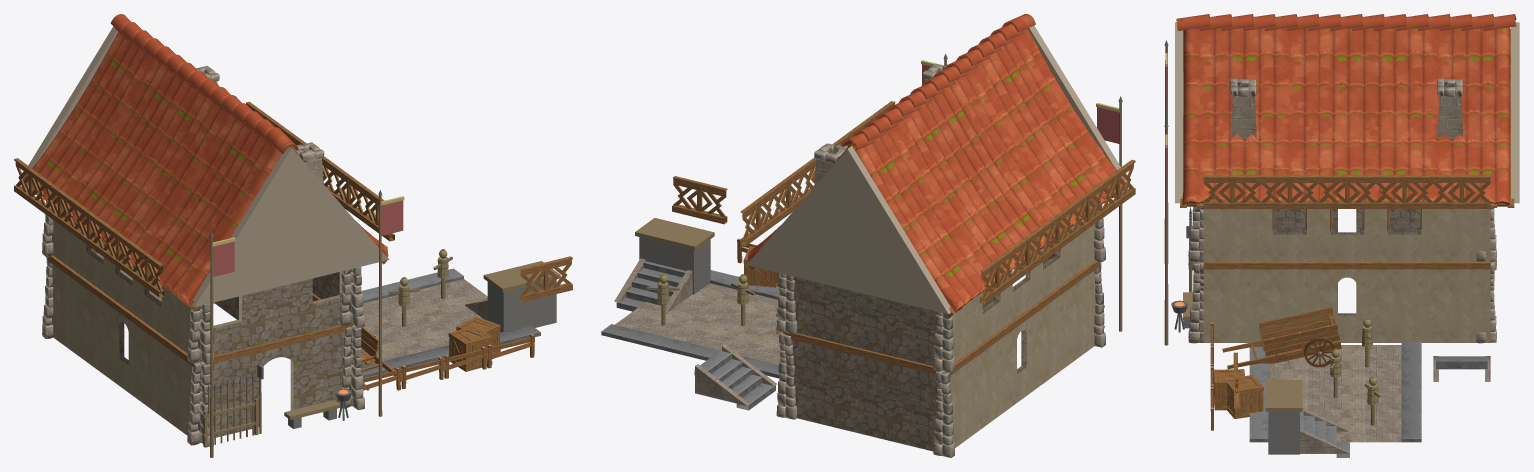
Rendered from town_barracks_t3.glb.
3 renders of one model, left to right at view 1: azimuth 30°, elevation 25°; view 2: azimuth 150°, elevation 25°; view 3: azimuth 270°, elevation 25°, orthographic. The views are drawn at different scales.
Parts seen in each view (by area): view 1: Roof_RoundTiles_6x10_inst, gable, Wall_UnevenBrick_Straight_inst.003, Wall_UnevenBrick_Straight_inst.014, Wall_UnevenBrick_Straight_inst, Wall_UnevenBrick_Straight_inst.007, Wall_UnevenBrick_Straight_inst.009, post_wall, Wall_UnevenBrick_Window_Thin_Round_inst, Wall_UnevenBrick_Straight_inst.011, Wall_UnevenBrick_Door_Round_inst, Wall_UnevenBrick_Straight_inst.005 (+41 smaller); view 2: Roof_RoundTiles_6x10_inst, gable.001, Wall_UnevenBrick_Straight_inst.002, Wall_UnevenBrick_Straight_inst.001, Wall_UnevenBrick_Straight_inst.004, Stairs_Exterior_Straight_inst, Wall_UnevenBrick_Straight_inst.015, Wall_UnevenBrick_Straight_inst.007, Wall_UnevenBrick_Straight_inst.009, Wall_UnevenBrick_Straight_inst.013, Wall_UnevenBrick_Window_Thin_Round_inst, Stairs_Exterior_Straight_inst.001 (+37 smaller); view 3: Roof_RoundTiles_6x10_inst, Wall_UnevenBrick_Straight_inst.010, Wall_UnevenBrick_Straight_inst.012, Wall_UnevenBrick_Straight_inst.006, Prop_Wagon_inst, Wall_UnevenBrick_Window_Thin_Round_inst.001, Wall_UnevenBrick_Straight_inst.008, Wall_UnevenBrick_Straight_inst.018, Wall_UnevenBrick_Straight_inst.020, Wall_UnevenBrick_Window_Wide_Round_inst.007, Wall_UnevenBrick_Window_Wide_Round_inst.003, Wall_UnevenBrick_Window_Wide_Round_inst.005 (+36 smaller).
Part boxes in pixels (left/top/right/bottom): Roof_RoundTiles_6x10_inst: left=23, top=14, right=388, bottom=310; gable: left=192, top=147, right=389, bottom=307; Wall_UnevenBrick_Straight_inst.003: left=298, top=324, right=353, bottom=407; Wall_UnevenBrick_Straight_inst.014: left=252, top=281, right=302, bottom=346; Wall_UnevenBrick_Straight_inst: left=201, top=347, right=253, bottom=437; Wall_UnevenBrick_Straight_inst.007: left=135, top=318, right=167, bottom=420; Wall_UnevenBrick_Straight_inst.009: left=77, top=275, right=109, bottom=377; post_wall: left=487, top=280, right=556, bottom=332; Wall_UnevenBrick_Window_Thin_Round_inst: left=106, top=296, right=138, bottom=399; Wall_UnevenBrick_Straight_inst.011: left=48, top=255, right=80, bottom=356; Wall_UnevenBrick_Door_Round_inst: left=250, top=334, right=303, bottom=428; Wall_UnevenBrick_Straight_inst.005: left=164, top=339, right=201, bottom=435; Roof_RoundTiles_6x10_inst: left=747, top=14, right=1126, bottom=317; gable.001: left=747, top=146, right=951, bottom=314; Wall_UnevenBrick_Straight_inst.002: left=835, top=343, right=893, bottom=440; Wall_UnevenBrick_Straight_inst.001: left=887, top=355, right=939, bottom=451; Wall_UnevenBrick_Straight_inst.004: left=783, top=332, right=838, bottom=427; Stairs_Exterior_Straight_inst: left=694, top=344, right=776, bottom=410; Wall_UnevenBrick_Straight_inst.015: left=836, top=287, right=888, bottom=355; Wall_UnevenBrick_Straight_inst.007: left=1032, top=281, right=1069, bottom=388; Wall_UnevenBrick_Straight_inst.009: left=972, top=325, right=1009, bottom=431; Wall_UnevenBrick_Straight_inst.013: left=889, top=300, right=937, bottom=365; Wall_UnevenBrick_Window_Thin_Round_inst: left=1002, top=303, right=1039, bottom=409; Stairs_Exterior_Straight_inst.001: left=614, top=258, right=692, bottom=313; Roof_RoundTiles_6x10_inst: left=1176, top=14, right=1516, bottom=207; Wall_UnevenBrick_Straight_inst.010: left=1376, top=262, right=1433, bottom=342; Wall_UnevenBrick_Straight_inst.012: left=1433, top=262, right=1490, bottom=342; Wall_UnevenBrick_Straight_inst.006: left=1203, top=262, right=1260, bottom=342; Prop_Wagon_inst: left=1222, top=307, right=1341, bottom=369; Wall_UnevenBrick_Window_Thin_Round_inst.001: left=1318, top=262, right=1375, bottom=342; Wall_UnevenBrick_Straight_inst.008: left=1261, top=262, right=1318, bottom=339; Wall_UnevenBrick_Straight_inst.018: left=1203, top=209, right=1260, bottom=261; Wall_UnevenBrick_Straight_inst.020: left=1433, top=209, right=1490, bottom=261; Wall_UnevenBrick_Window_Wide_Round_inst.007: left=1376, top=209, right=1433, bottom=261; Wall_UnevenBrick_Window_Wide_Round_inst.003: left=1261, top=209, right=1318, bottom=261; Wall_UnevenBrick_Window_Wide_Round_inst.005: left=1318, top=209, right=1375, bottom=261.
Bounding box in the file's own units: 17.18 × 11.34 × 12.38.
53 materials, 26 textured.
